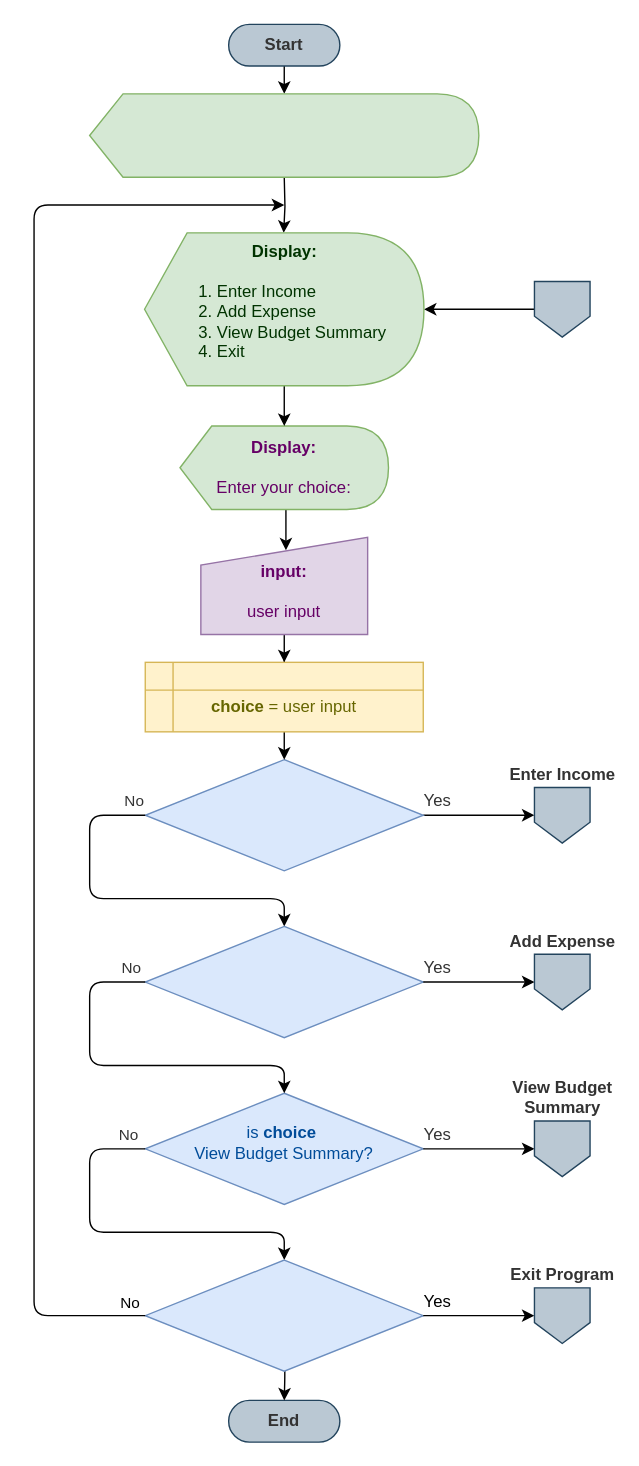
The diagram is 639 pixels wide and 1466 high, and some of its shapes have lost their labels. The centre of each missing label's shape, as x and y in pixels:
"Display: Welcome to Personal Finance Calculator" belongs at (x=283, y=134).
"is choice Add Expense?" belongs at (x=283, y=981).
"is choice Enter Income?" belongs at (x=283, y=814).
"is choice Exit Program?" belongs at (x=283, y=1315).
"Main Menu" belongs at (x=561, y=308).
